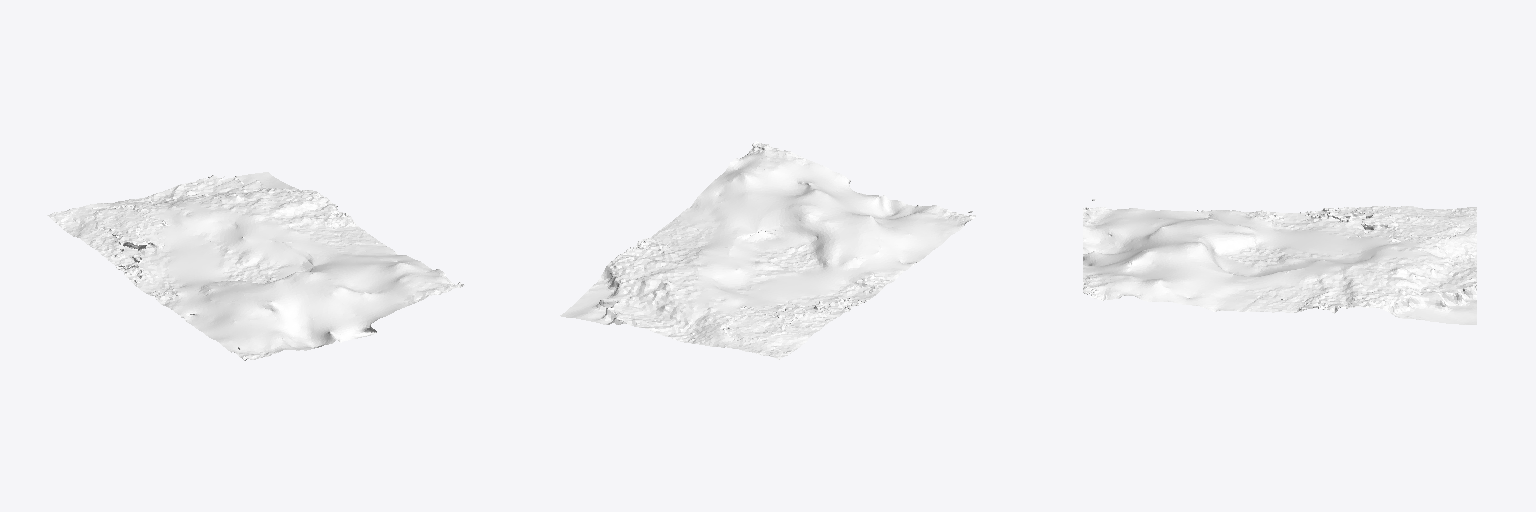
File: ground.obj
The picture shows the model from 3 angles: view 1: azimuth 30°, elevation 25°; view 2: azimuth 150°, elevation 25°; view 3: azimuth 270°, elevation 25°; orthographic projection.
Parts seen in each view (by area): view 1: map_70d5ddef-571e-4f2b-a013-9b881c99987b_densified_mesh_texture; view 2: map_70d5ddef-571e-4f2b-a013-9b881c99987b_densified_mesh_texture; view 3: map_70d5ddef-571e-4f2b-a013-9b881c99987b_densified_mesh_texture.
Boxes of the visible parts, x1,y1,x2,y2 form: map_70d5ddef-571e-4f2b-a013-9b881c99987b_densified_mesh_texture: [47, 172, 464, 360]; map_70d5ddef-571e-4f2b-a013-9b881c99987b_densified_mesh_texture: [560, 141, 975, 359]; map_70d5ddef-571e-4f2b-a013-9b881c99987b_densified_mesh_texture: [1083, 199, 1476, 324].
Size of the model in its own units: 26.94 by 3.93 by 41.81.